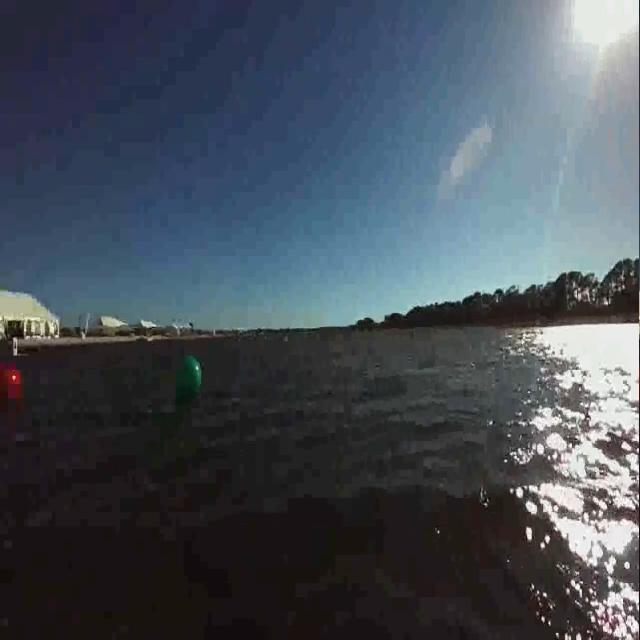green-buoy: (175, 352, 203, 406)
red-buoy: (6, 368, 20, 387)
